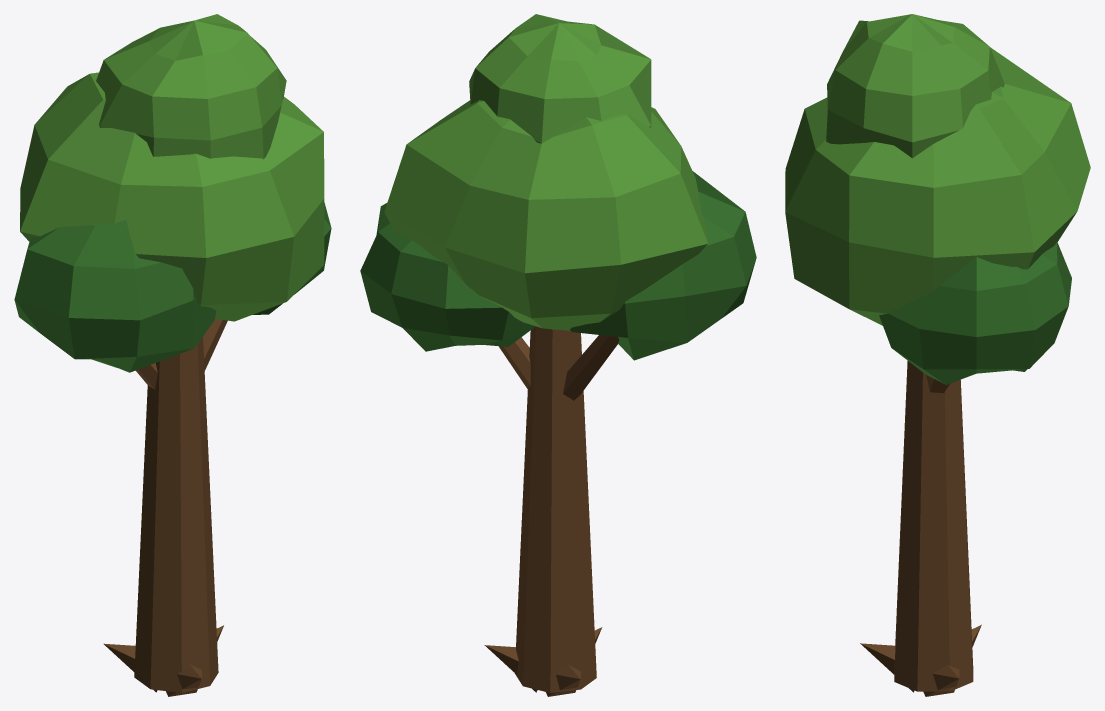
The model's file is prop_tree.glb.
3 views of the same model, side by side, from view 1: azimuth 30°, elevation 25°; view 2: azimuth 150°, elevation 25°; view 3: azimuth 270°, elevation 25° (orthographic). The views are drawn at different scales.
Visible parts, largest first — view 1: prop_tree_mesh; view 2: prop_tree_mesh; view 3: prop_tree_mesh.
Boxes of the visible parts, <box> form: prop_tree_mesh: <box>14,14,331,696</box>; prop_tree_mesh: <box>360,14,756,696</box>; prop_tree_mesh: <box>785,14,1090,696</box>.
Size of the model in its own units: 0.9332 by 1.75 by 0.7146.
1 material, 1 textured.
